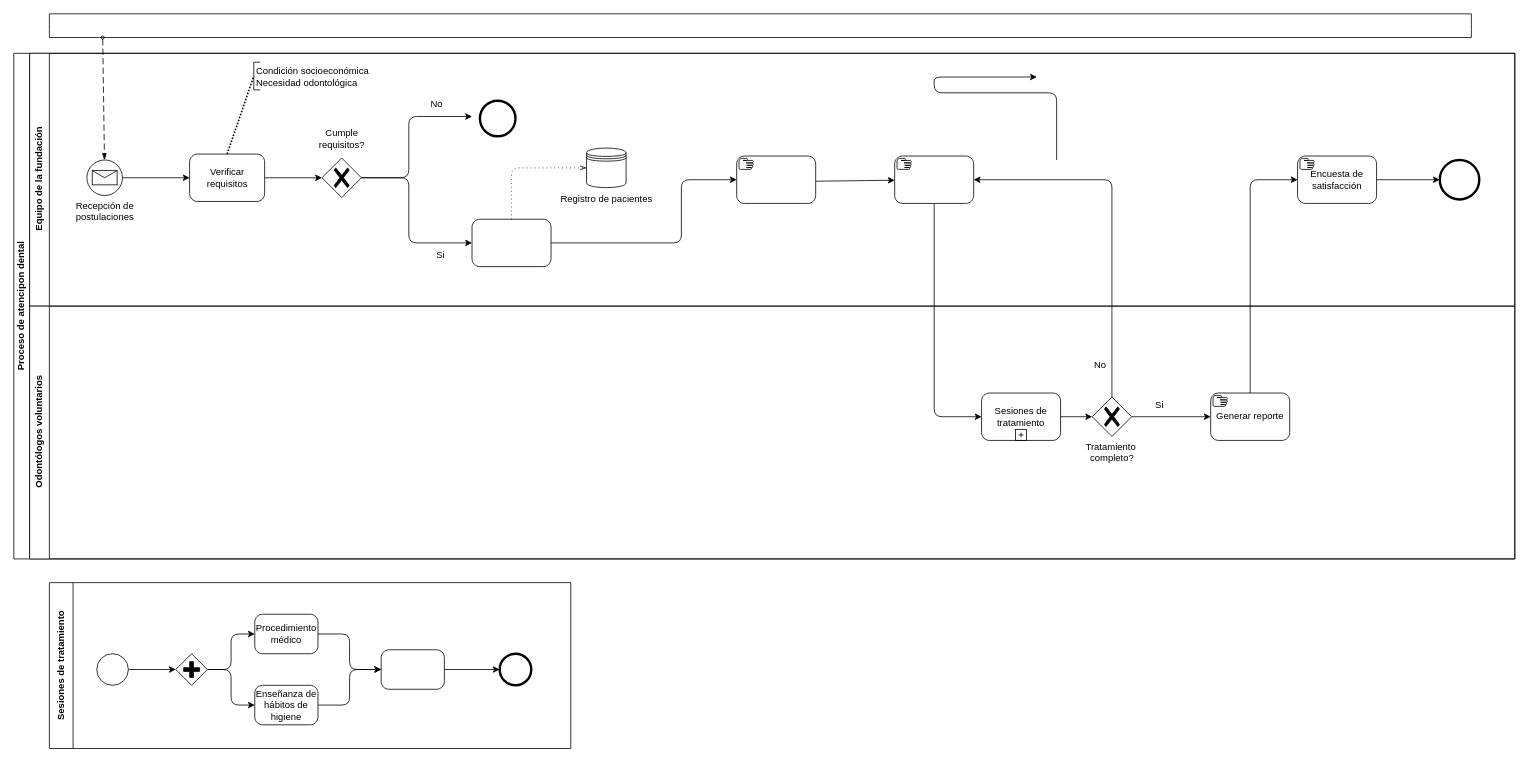
The diagram is 1529 pixels wide and 762 high, and some of its shapes have lost their labels. Each missing label, with the centre of its shape:
"Agendar hora" goes at [934,179].
"Asignar voluntario" goes at [776,179].
"Crear ficha médica" goes at [511,242].
"Instituciones colaboradoras" goes at [760,25].
"Seguimiento clínico y educativo" goes at [412,669].
